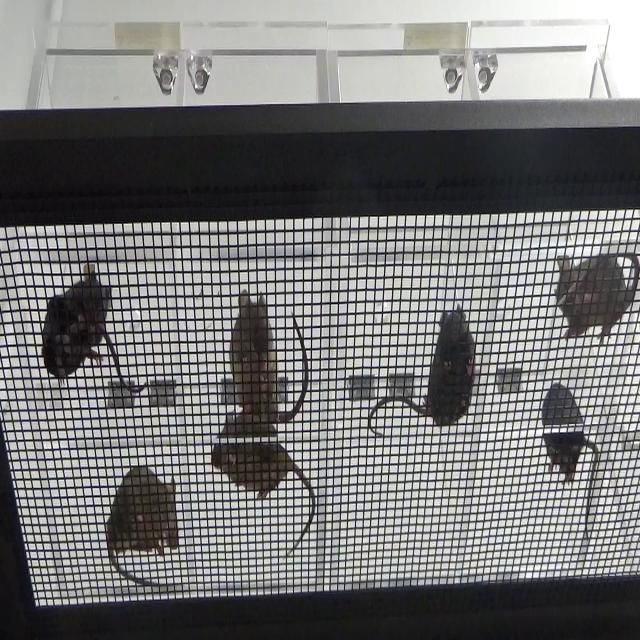lick tail: (41, 255, 156, 421)
scratch: (549, 244, 640, 343)
